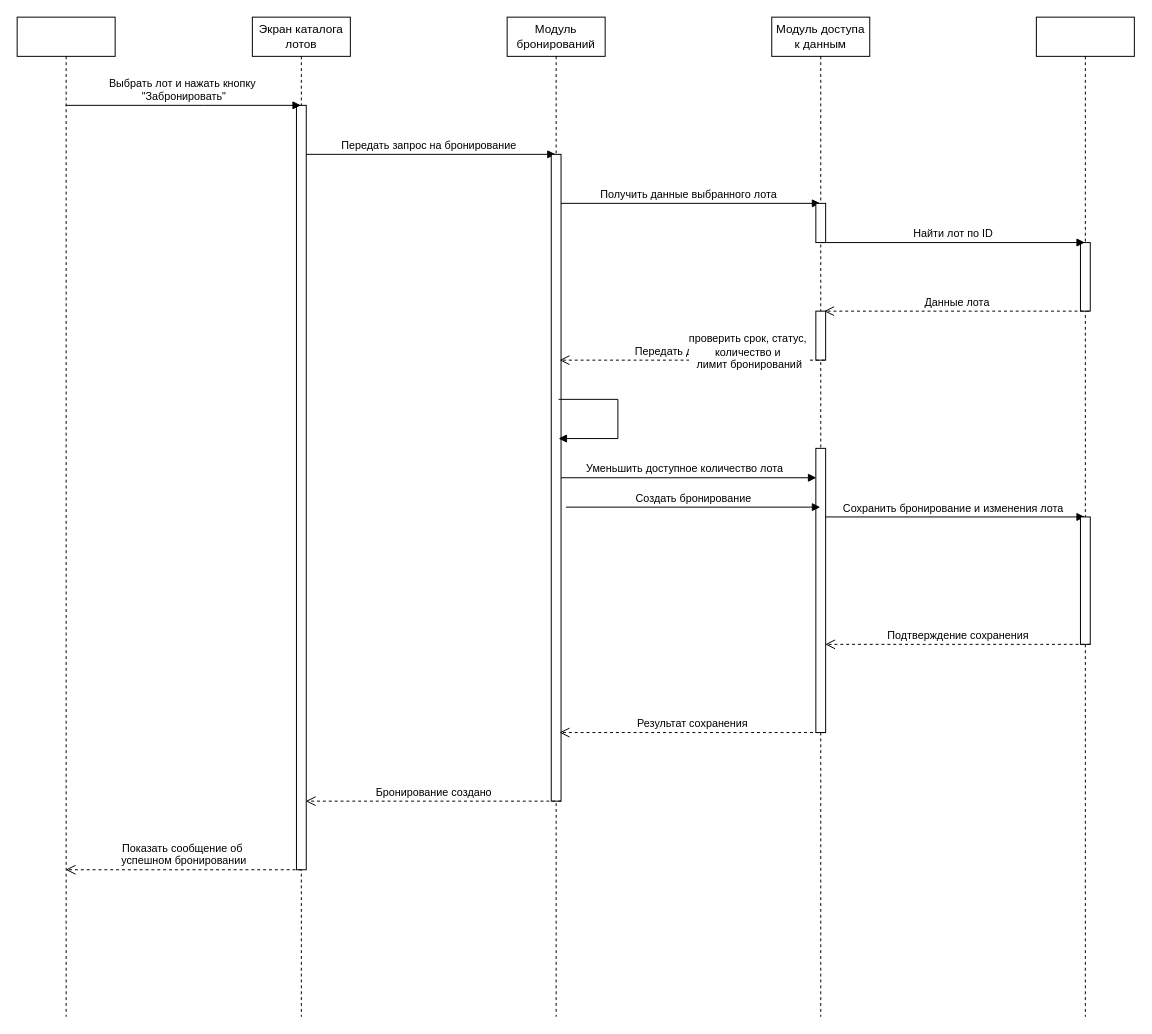
Some shapes in this 1152 by 1034 pixel diagram are drawn without their labels. Here are the shapes that lost their labels. From the top down, the box of each, then its label:
(16, 16, 115, 1017): Покупатель
(1035, 16, 1134, 1017): БД
